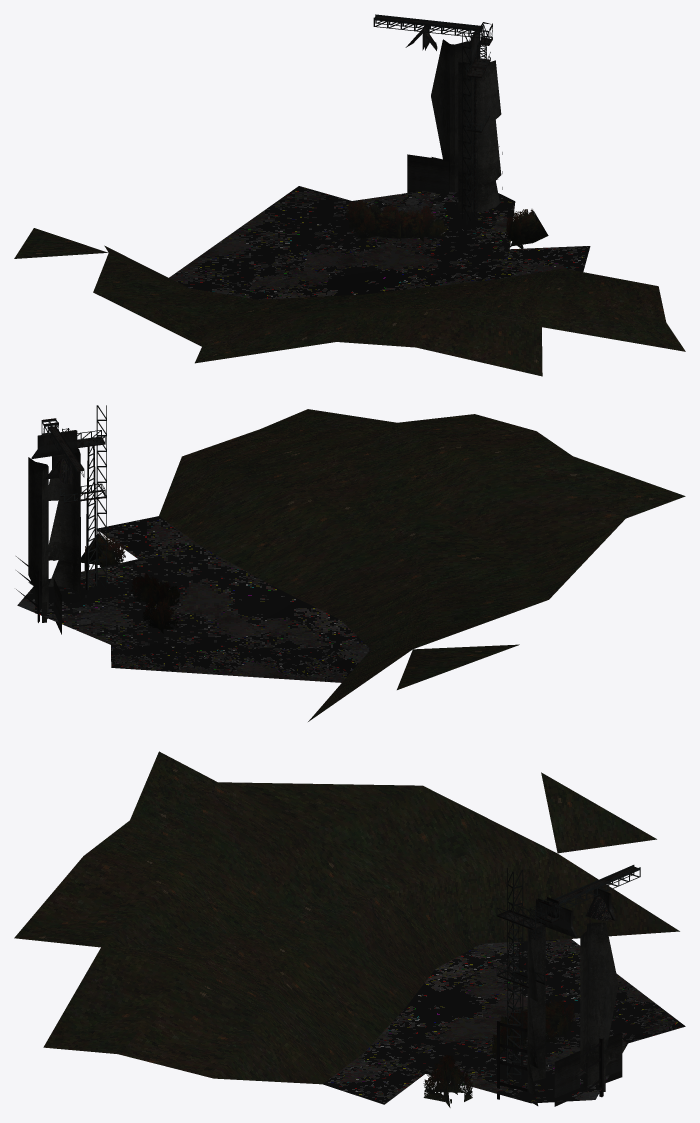
Rendered from cell_11_1.gltf.
3 views of the same model, one above another, from view 1: azimuth 30°, elevation 25°; view 2: azimuth 150°, elevation 25°; view 3: azimuth 270°, elevation 25° (orthographic). The views are drawn at different scales.
Visible parts, largest first — view 1: cell_11_1; view 2: cell_11_1; view 3: cell_11_1.
Boxes of the visible parts, box(x1,y1,x2,y2) form: cell_11_1: box(14, 14, 685, 376); cell_11_1: box(16, 405, 685, 721); cell_11_1: box(14, 751, 685, 1107).
Size of the model in its own units: 299 by 111 by 315.
9 materials, 9 textured.
